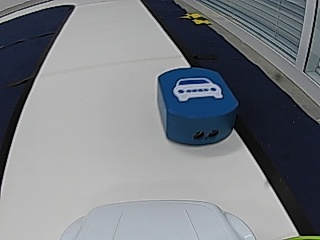safety: (172, 76, 224, 102)
